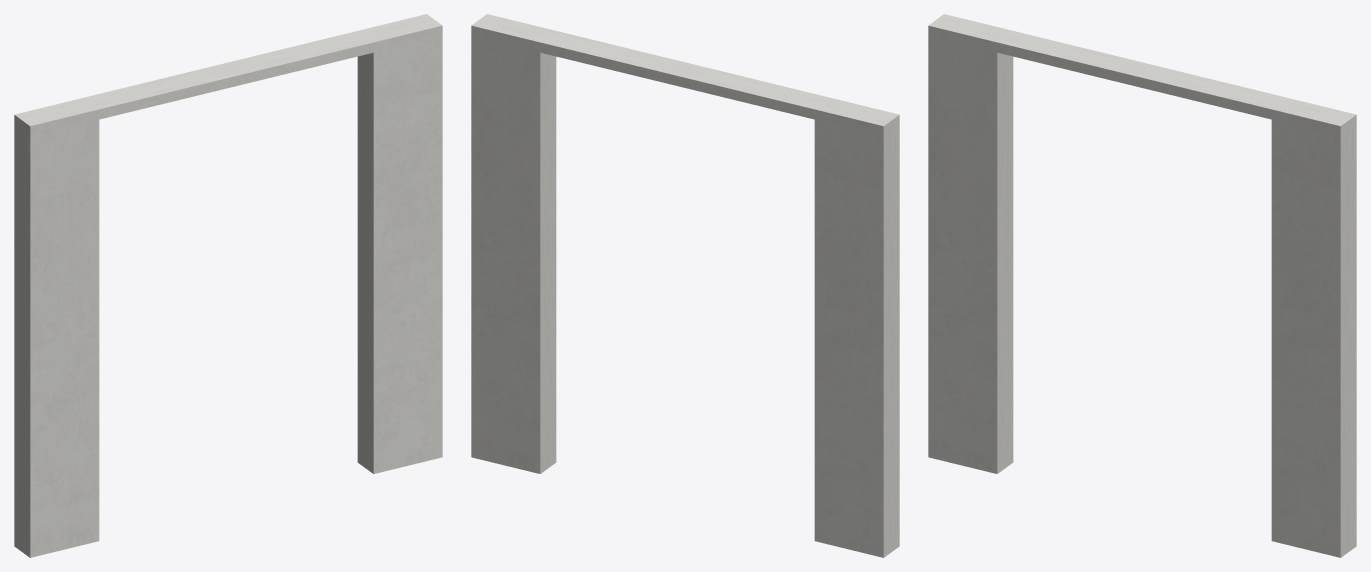
File: Wall_3x3x10_Door_B_Large.FBX
3 renders of one model, left to right at view 1: azimuth 30°, elevation 25°; view 2: azimuth 150°, elevation 25°; view 3: azimuth 330°, elevation 25°, orthographic.
Parts seen in each view (by area): view 1: Wall_3x3x10_Door_B_Large; view 2: Wall_3x3x10_Door_B_Large; view 3: Wall_3x3x10_Door_B_Large.
Part boxes in pixels (x1=…): Wall_3x3x10_Door_B_Large: x1=14, y1=14, x2=442, y2=557; Wall_3x3x10_Door_B_Large: x1=471, y1=14, x2=899, y2=557; Wall_3x3x10_Door_B_Large: x1=928, y1=14, x2=1356, y2=557.
Size of the model in its own units: 300 by 300 by 20.
